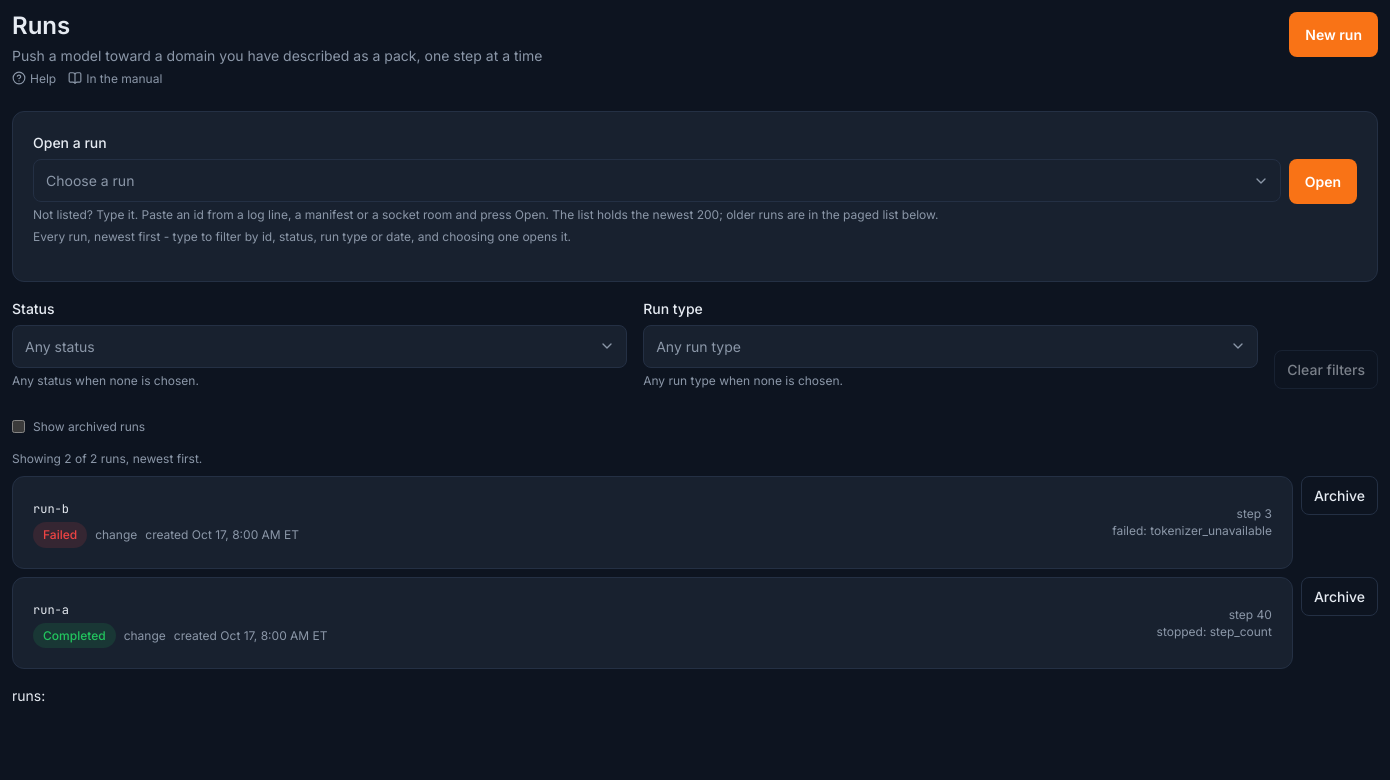
Scenario: [RunIndexPage] › should list every run in the Open-a-run dropdown and open the one chosen
Click the dropdown with test id "run-id-input" at (657, 181), box [33, 159, 1281, 202]
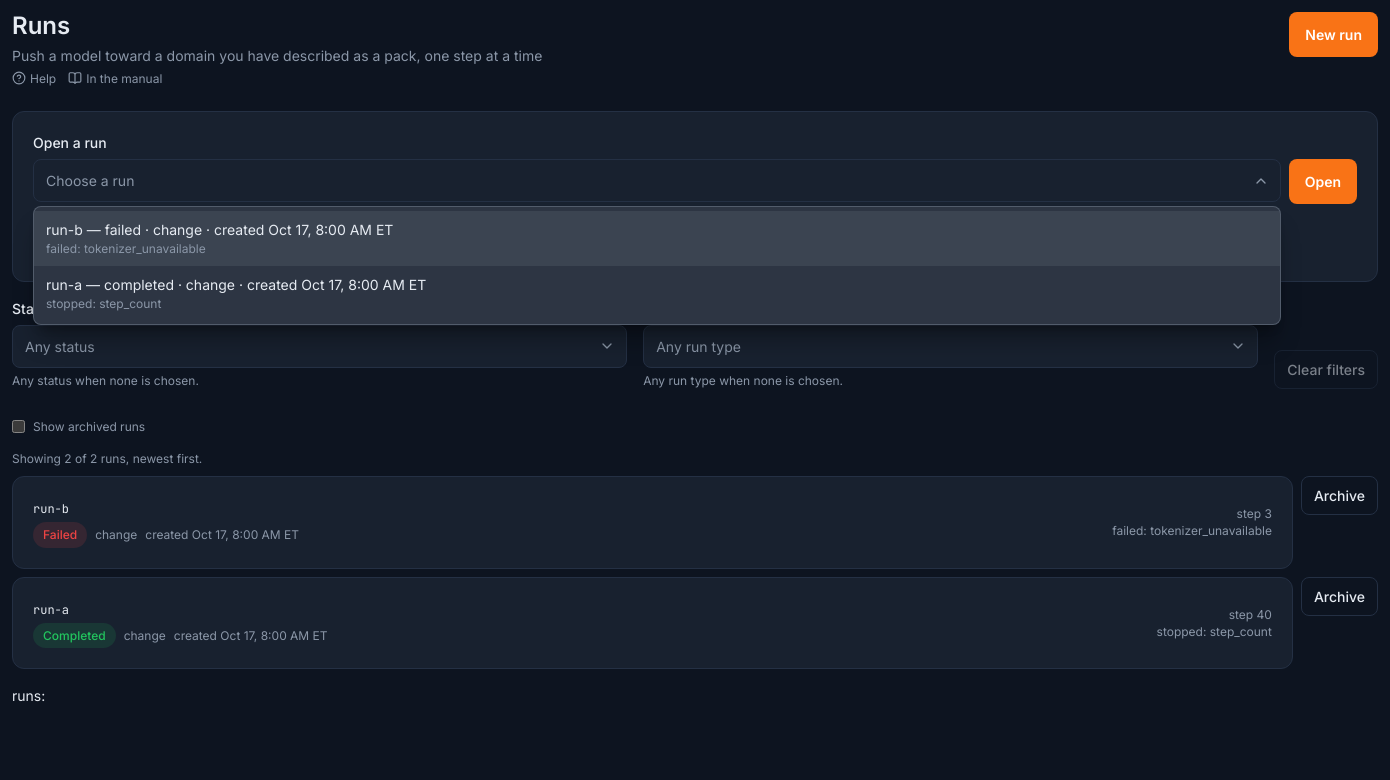
Press Escape in the dropdown with test id "run-id-input", box [33, 159, 1281, 202]
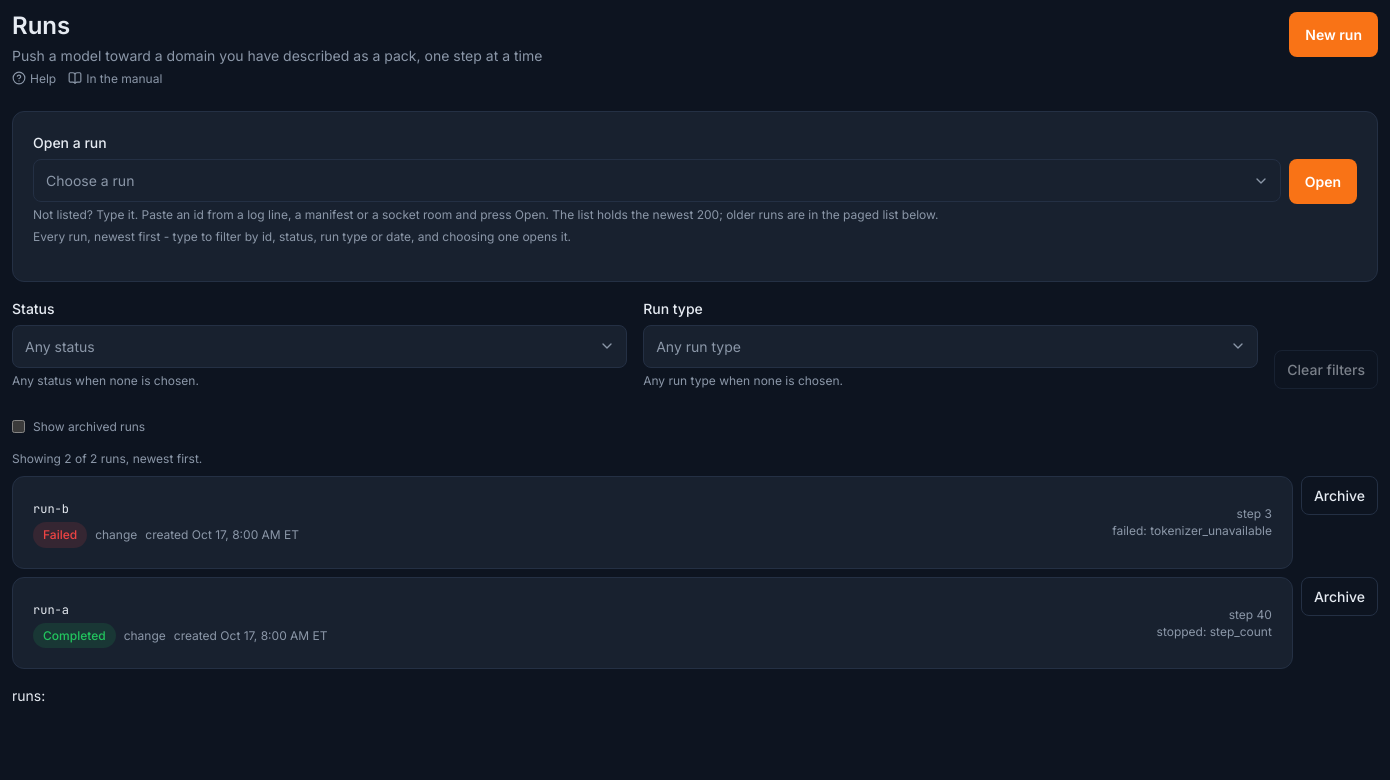
Click the dropdown with test id "run-id-input" at (657, 181), box [33, 159, 1281, 202]
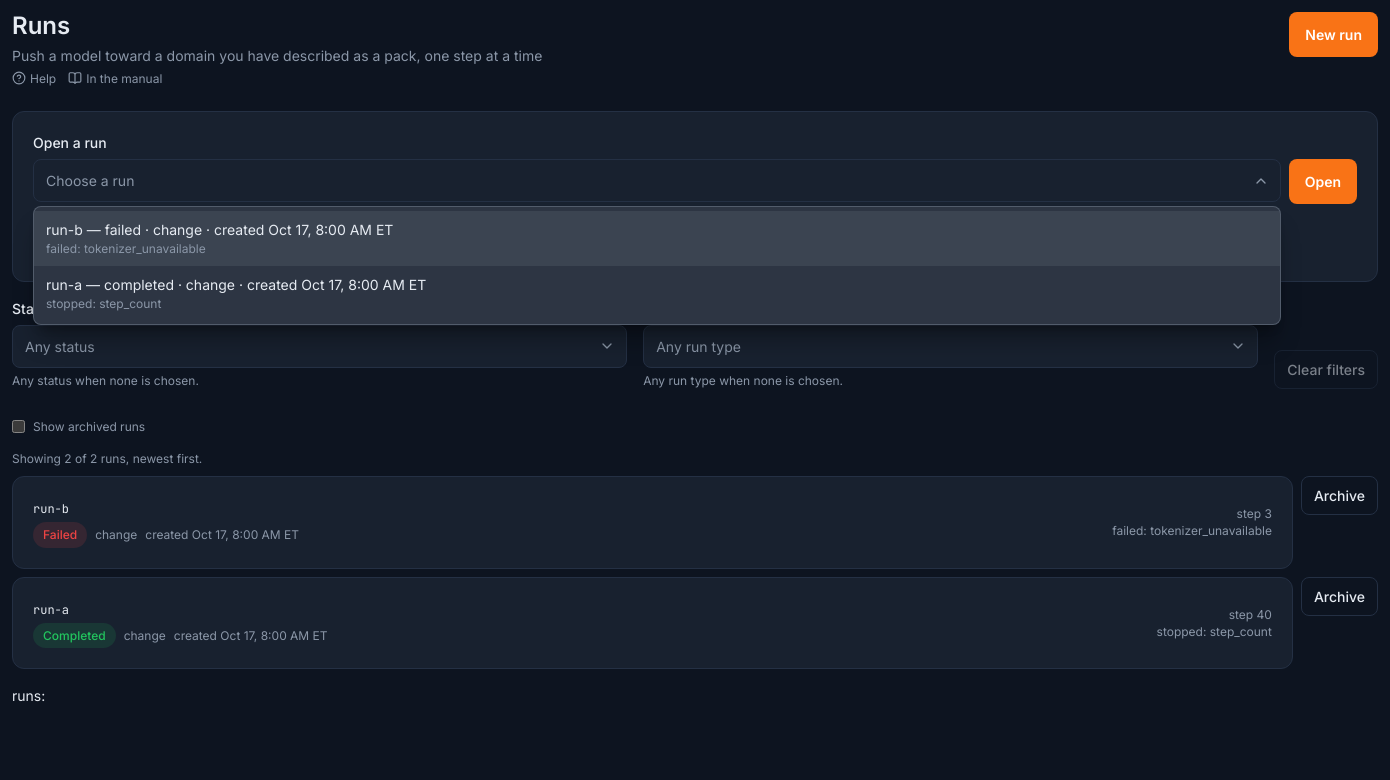
Press the mouse on the 2nd option at (236, 293), box [46, 276, 426, 311]
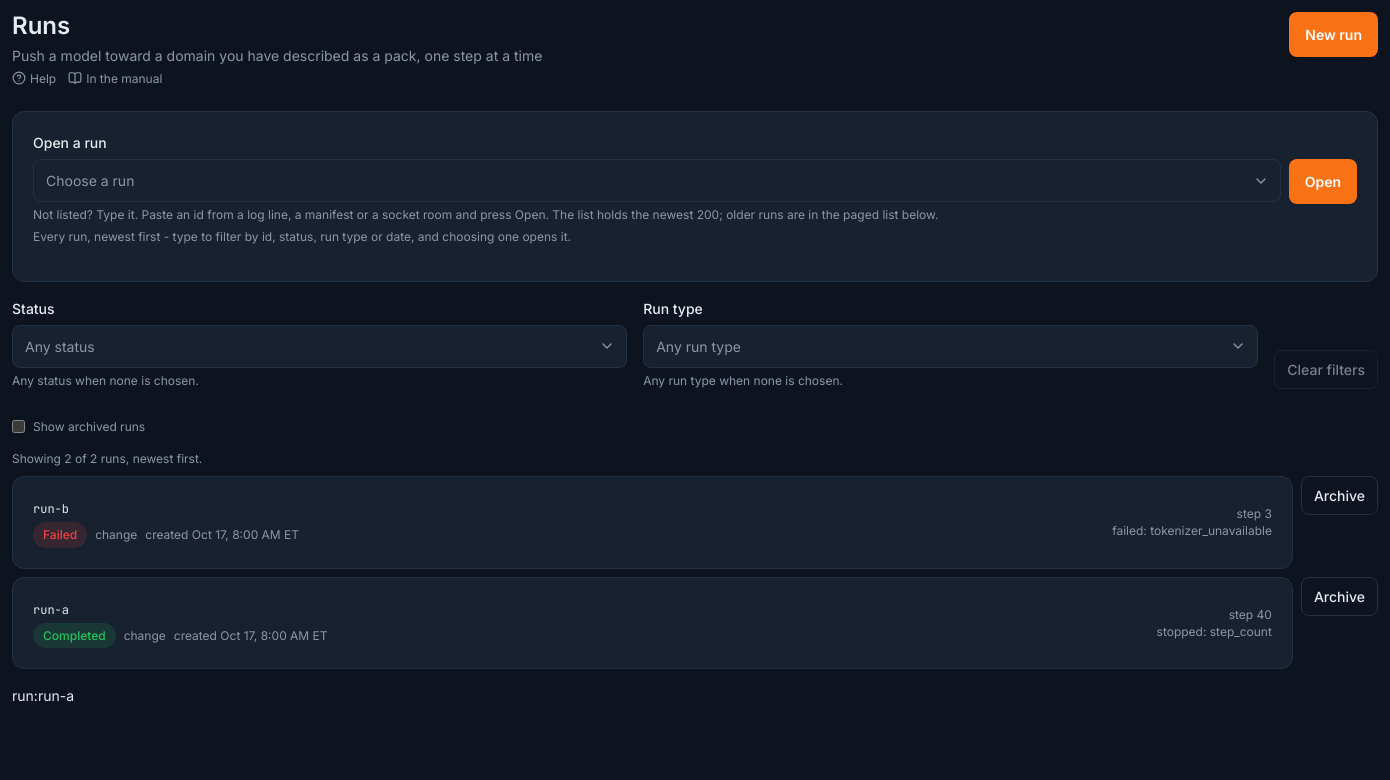
Expected: the text with test id "where" reads "run:run-a", [12, 687, 74, 704]
